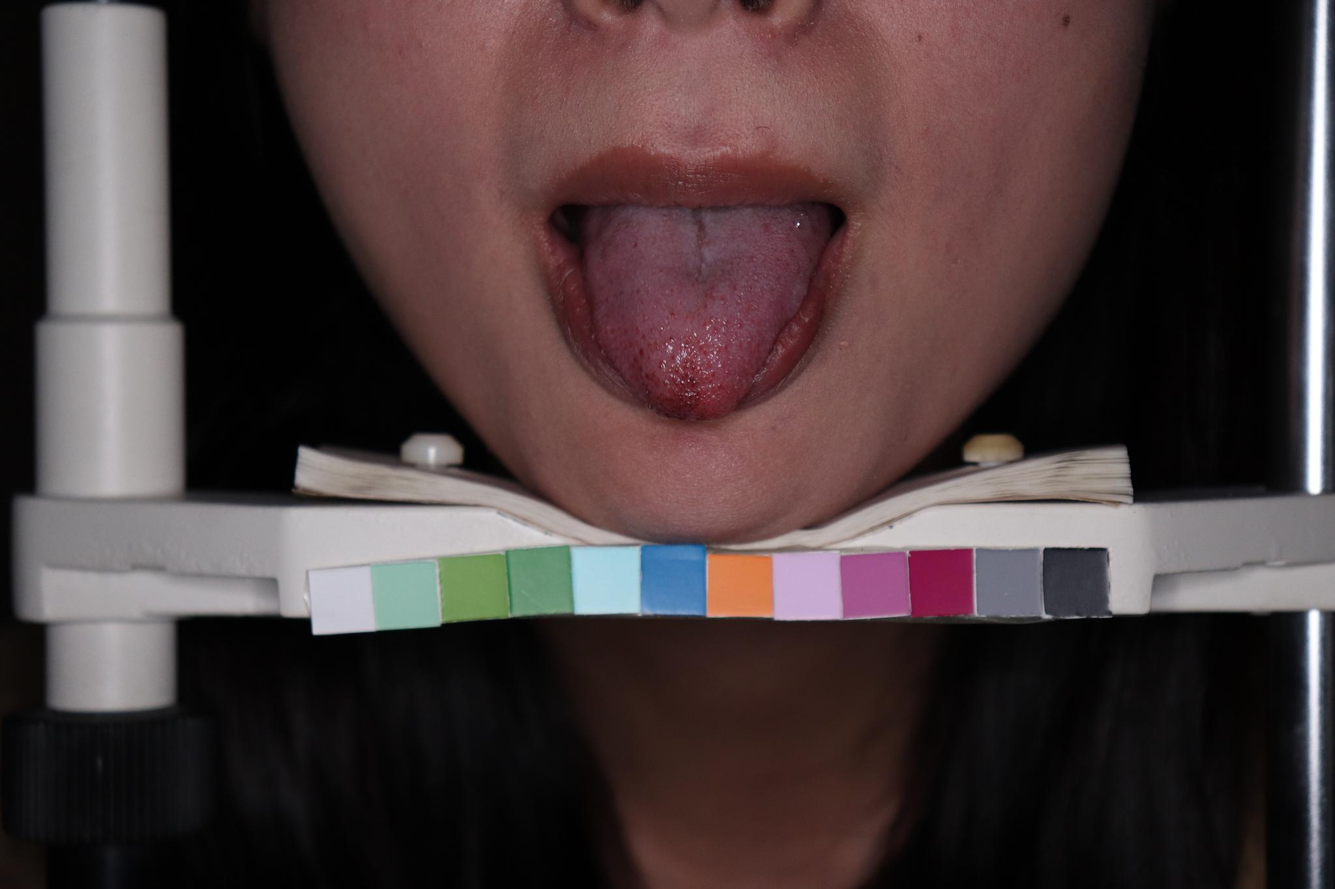baitaishe: (582, 197, 830, 423)
hongdianshe: (637, 346, 645, 359), (639, 331, 647, 341), (669, 353, 677, 361), (735, 321, 743, 329), (688, 374, 695, 382), (668, 312, 677, 318), (716, 380, 722, 389), (668, 335, 675, 342)
